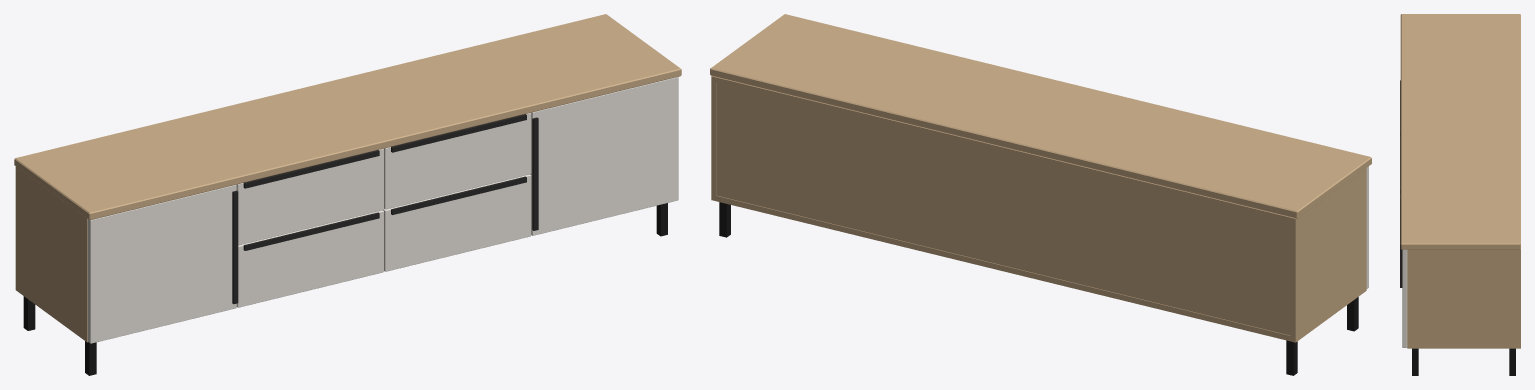
File: 32_szafka_rtv_200.glb
3 renders of one model, left to right at view 1: azimuth 30°, elevation 25°; view 2: azimuth 150°, elevation 25°; view 3: azimuth 270°, elevation 25°, orthographic. The views are drawn at different scales.
Visible parts, largest first — view 1: Wierzch, Front_drzwi_1, Front_drzwi_6, Korpus, Front_szuflada_5, Front_szuflada_3, Front_szuflada_4, Front_szuflada_2, Uchwyty, Nogi; view 2: Korpus, Wierzch, Nogi; view 3: Wierzch, Korpus, Front_drzwi_6, Nogi, Uchwyty.
Part boxes in pixels (left/top/right/bottom): Wierzch: left=14, top=14, right=681, bottom=220; Front_drzwi_1: left=87, top=184, right=236, bottom=343; Front_drzwi_6: left=530, top=77, right=678, bottom=235; Korpus: left=15, top=166, right=87, bottom=342; Front_szuflada_5: left=383, top=174, right=531, bottom=271; Front_szuflada_3: left=236, top=210, right=383, bottom=307; Front_szuflada_4: left=384, top=113, right=531, bottom=209; Front_szuflada_2: left=236, top=148, right=383, bottom=245; Uchwyty: left=232, top=114, right=538, bottom=304; Nogi: left=23, top=203, right=667, bottom=375; Korpus: left=711, top=76, right=1366, bottom=342; Wierzch: left=710, top=14, right=1371, bottom=218; Nogi: left=719, top=202, right=1358, bottom=375; Wierzch: left=1400, top=14, right=1520, bottom=249; Korpus: left=1407, top=249, right=1520, bottom=348; Front_drzwi_6: left=1402, top=249, right=1407, bottom=347; Nogi: left=1412, top=348, right=1515, bottom=375; Uchwyty: left=1400, top=80, right=1402, bottom=287.
Bounding box in the file's own units: 2.01 × 0.55 × 0.446.
